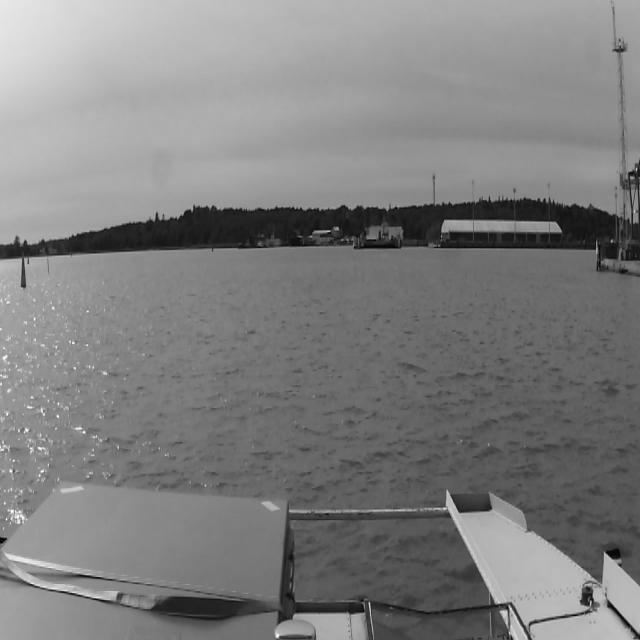buoy: (19, 250, 27, 290), (26, 250, 31, 266), (46, 258, 50, 274), (211, 244, 213, 254), (70, 250, 72, 258)
